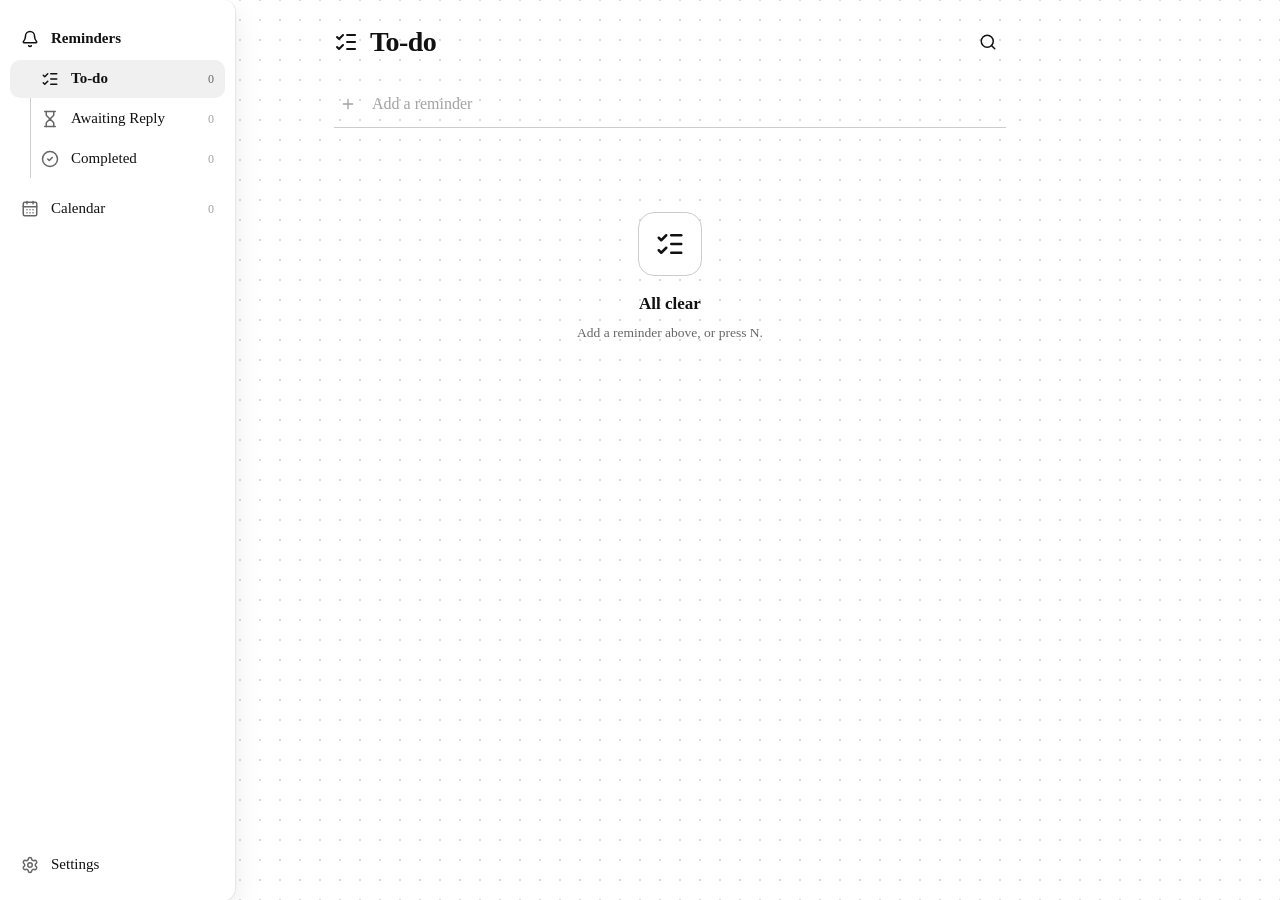
Test: App › moves a reminder to Awaiting Reply and records who
Step 1. Click the tab "Awaiting Reply 0" → (118, 119), box [10,100,225,138]
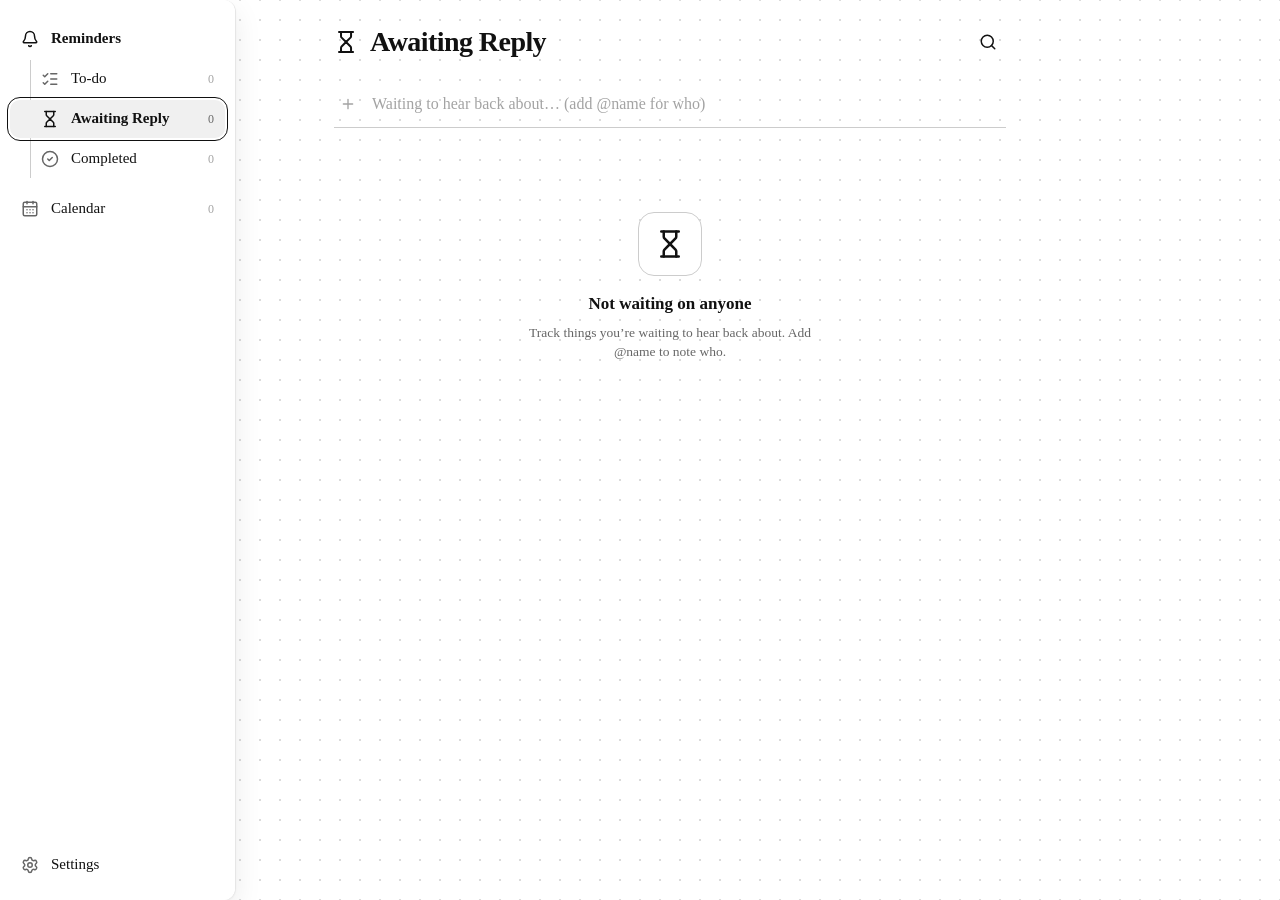
Step 2. Type "Quote for roof @Dana" into the field named "Add to Awaiting Reply" → (686, 104), box [370,91,1002,116]
Then press Enter
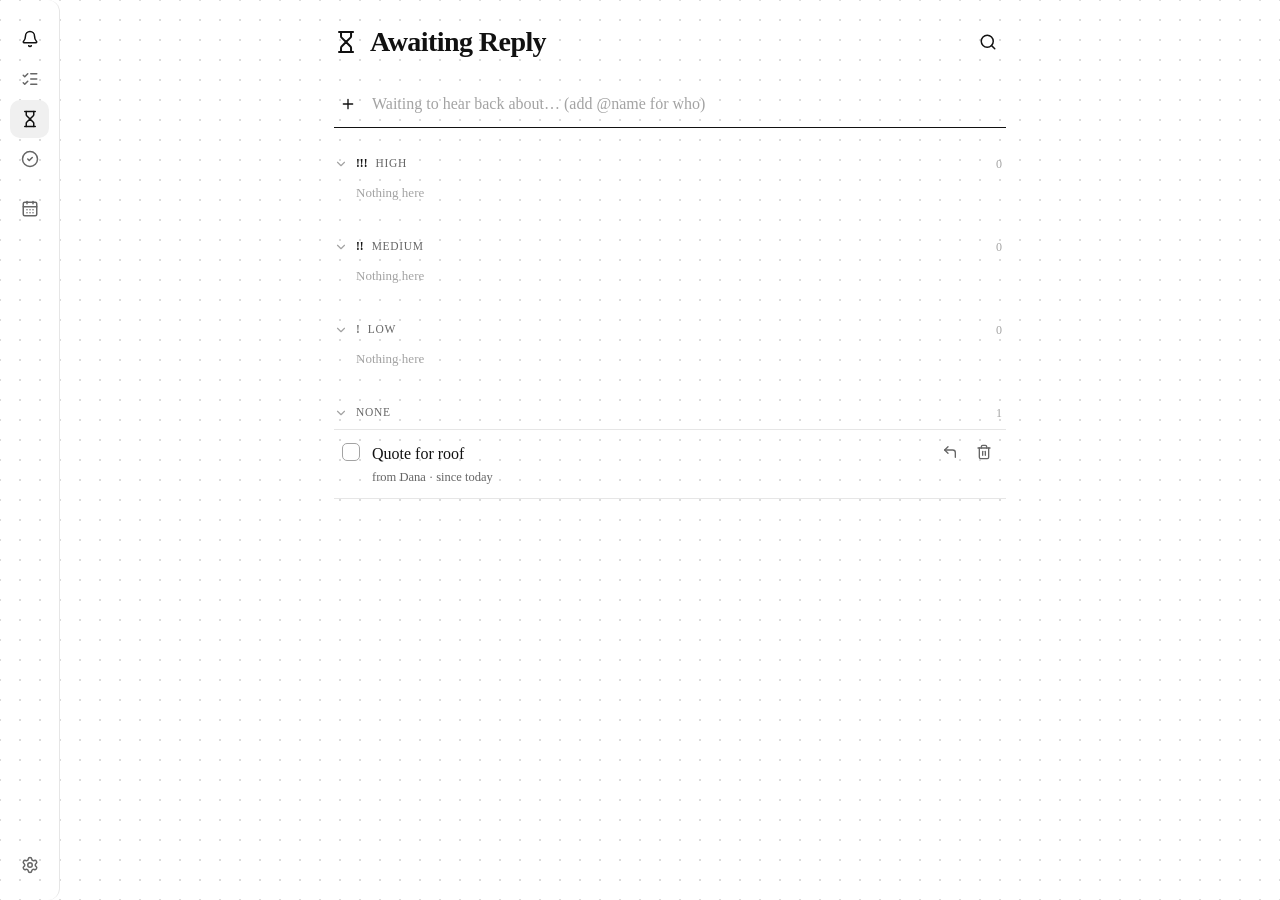
Now the text "Quote for roof" is shown, box [372,442,464,465]
Now the text "from Dana · since today" is shown, box [372,468,493,486]
Step 3. Click the 1st tab named "To-do" → (30, 79), box [10,60,49,98]
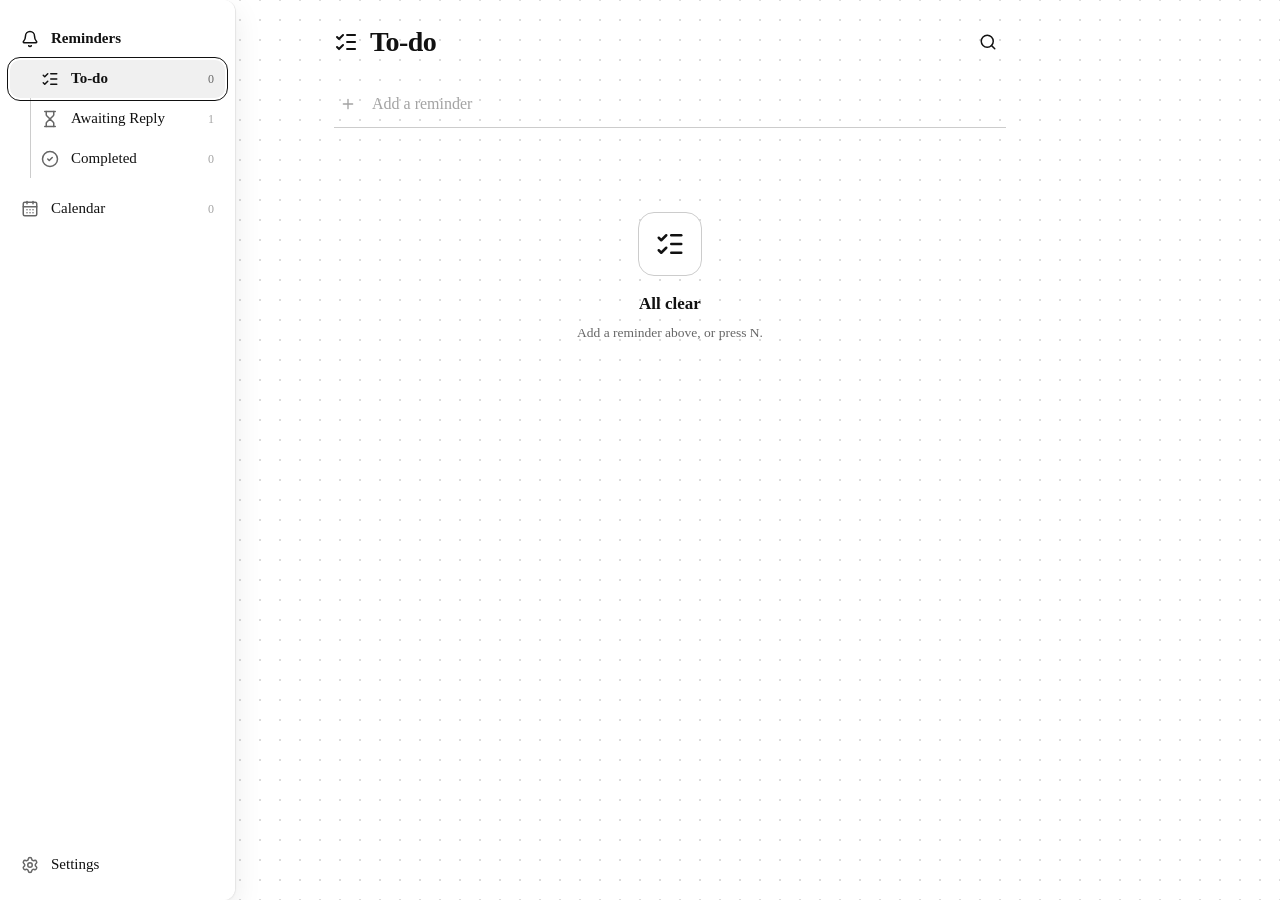
Step 4. Type "Follow up with bank" into the field named "Add to To-do" → (686, 104), box [370,91,1002,116]
Then press Enter
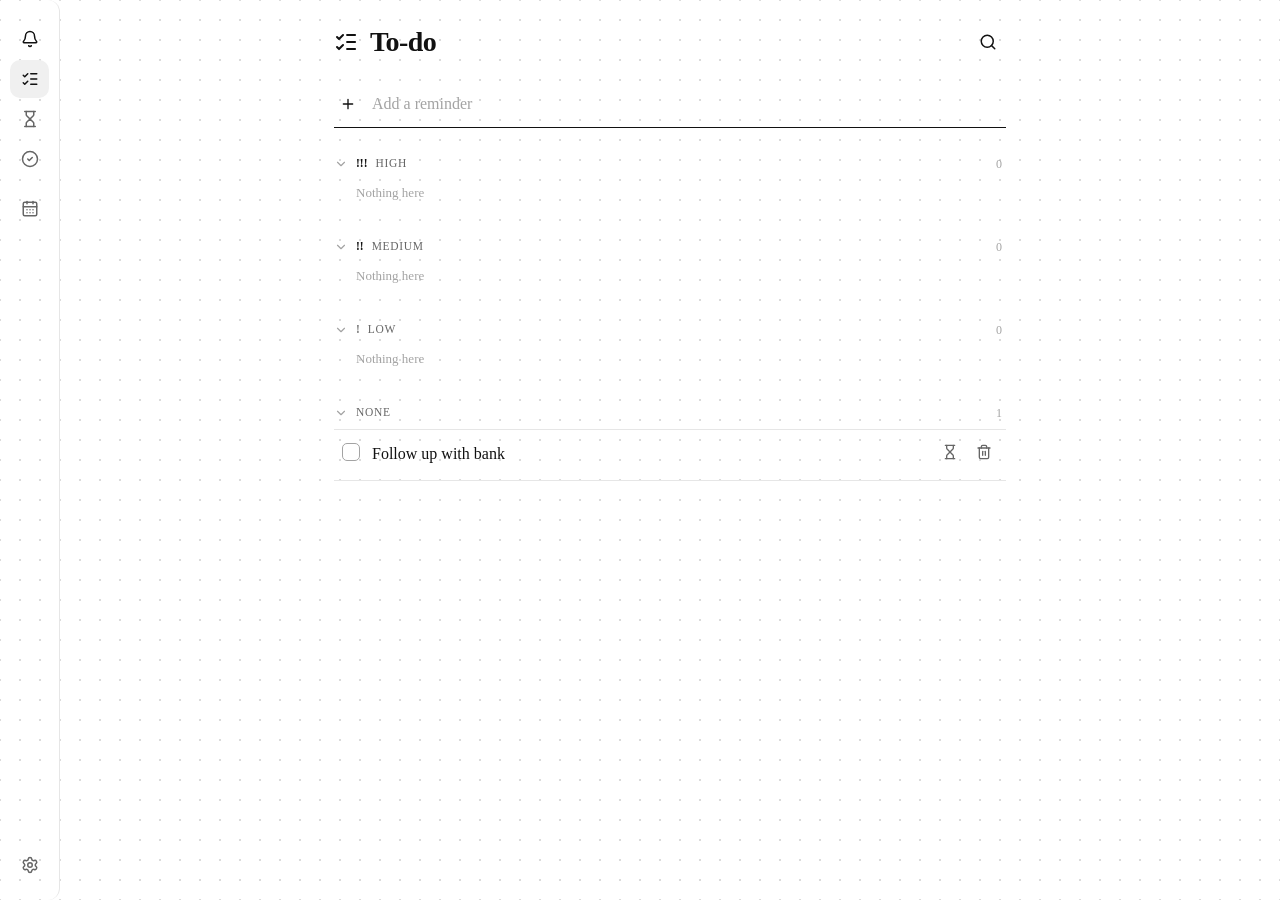
Step 5. Click the button named "Move to Awaiting Reply (w)" → (950, 452), box [934,436,966,468]
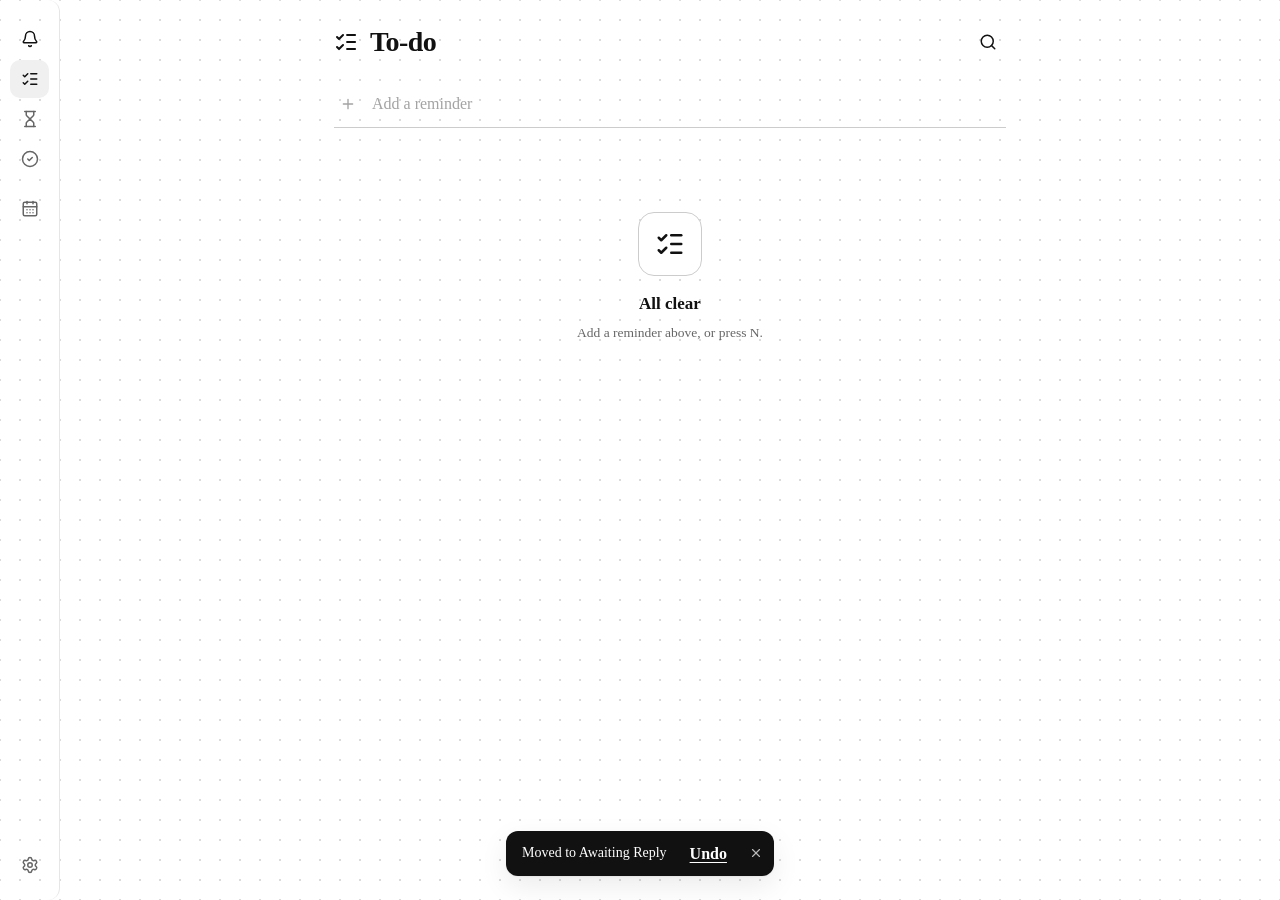
Now the button "Follow up with bank" is gone
